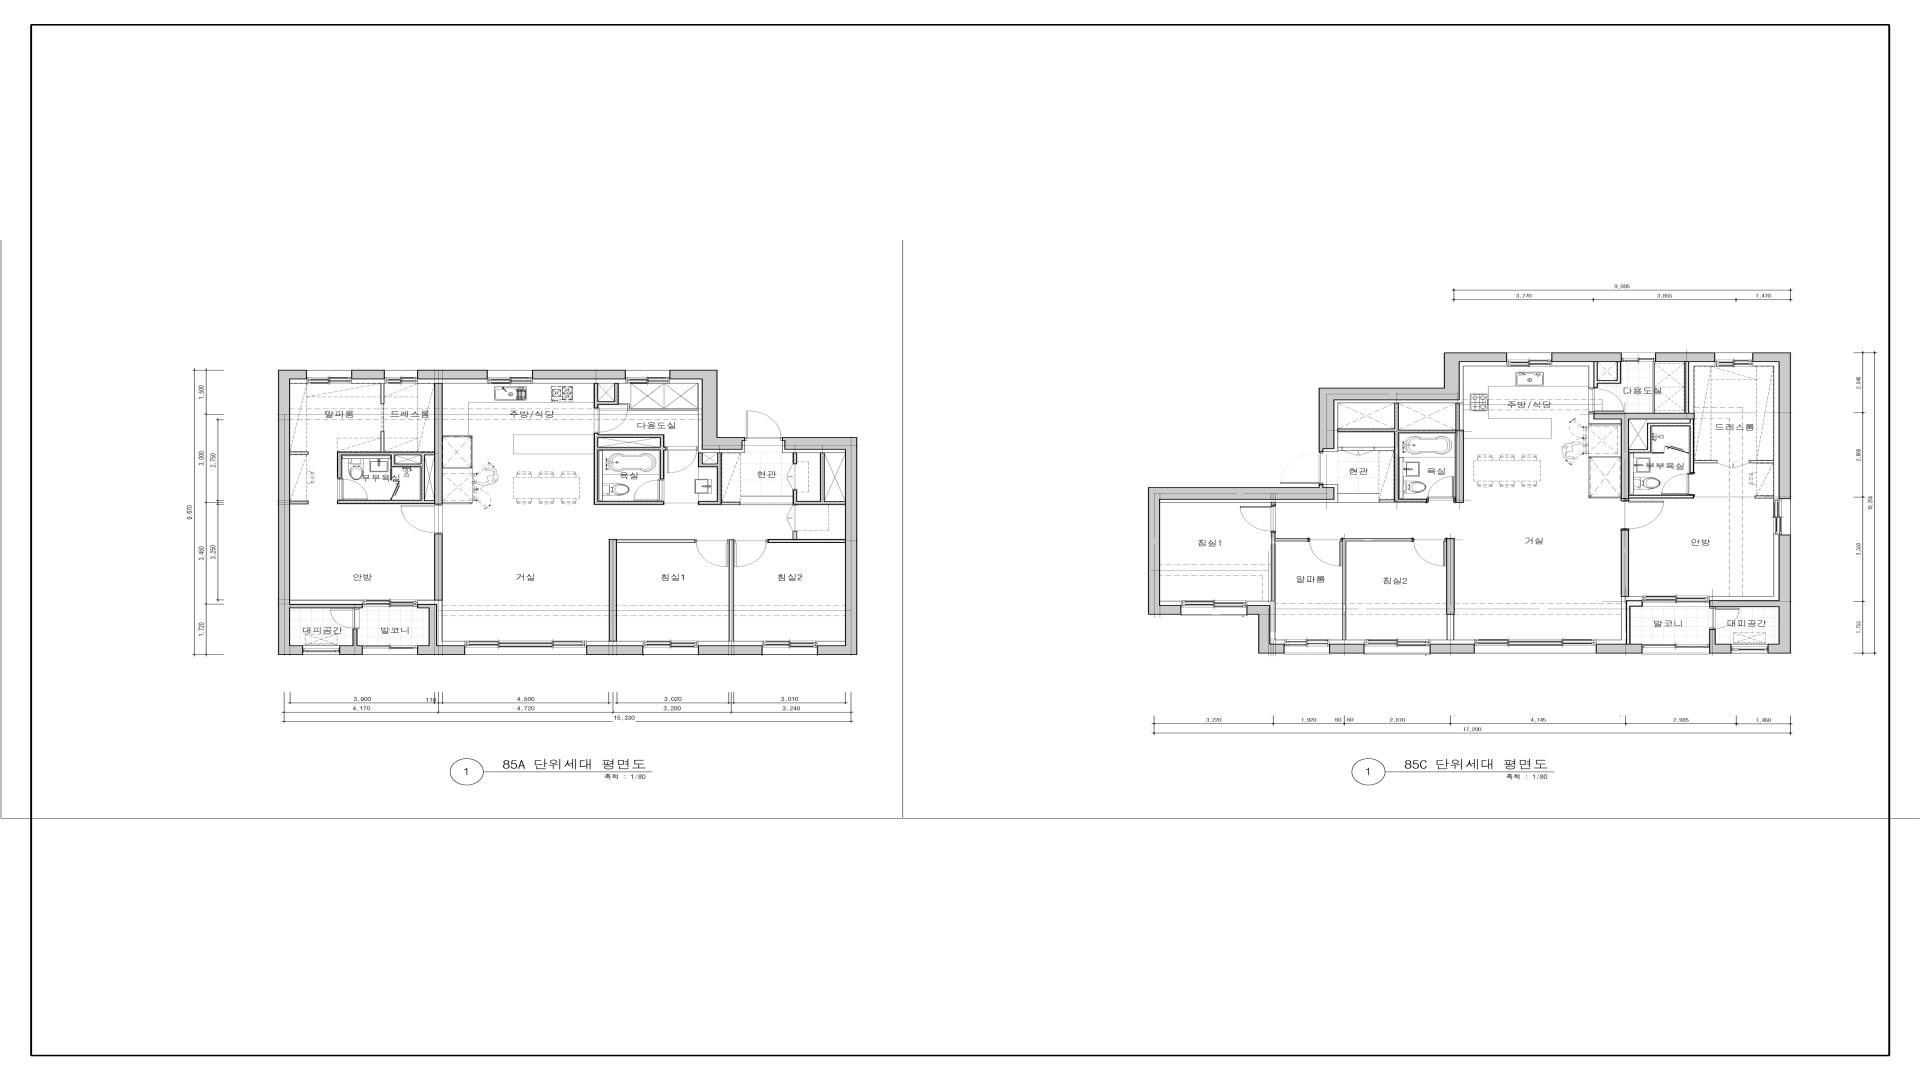door: (1621, 498, 1664, 530), (1280, 452, 1324, 484), (400, 504, 443, 534), (745, 411, 782, 440), (1240, 505, 1276, 533), (1308, 538, 1342, 567), (1412, 538, 1447, 566), (695, 539, 729, 567), (735, 539, 767, 567), (593, 407, 628, 434), (666, 447, 698, 473), (1662, 472, 1695, 495), (634, 479, 665, 501), (338, 479, 368, 501), (1710, 607, 1739, 629), (330, 608, 360, 629), (786, 505, 798, 531), (390, 468, 400, 500), (1341, 447, 1375, 455), (786, 464, 796, 489), (1717, 460, 1750, 468), (381, 404, 385, 433)
wall: (1147, 484, 1335, 615), (278, 369, 363, 655), (1319, 352, 1507, 452), (1589, 363, 1717, 498), (782, 438, 857, 655), (338, 382, 443, 505), (1337, 404, 1464, 502), (1709, 535, 1791, 654), (609, 539, 695, 642), (1342, 538, 1412, 640), (670, 371, 745, 450), (1753, 352, 1791, 500), (593, 434, 666, 505), (793, 452, 845, 505), (1271, 533, 1308, 601), (417, 604, 465, 655), (698, 452, 740, 505), (1246, 605, 1284, 654), (396, 455, 434, 502), (767, 531, 845, 543), (531, 371, 626, 380), (1447, 538, 1455, 641), (417, 369, 488, 380), (1552, 352, 1622, 363), (1593, 363, 1622, 388), (599, 435, 659, 447), (1626, 600, 1642, 645), (728, 539, 735, 641), (593, 382, 618, 409), (1655, 352, 1716, 363), (339, 629, 363, 655), (434, 534, 443, 600), (698, 646, 762, 655), (1709, 629, 1731, 654), (1621, 530, 1629, 597), (587, 646, 644, 655), (1596, 644, 1643, 654), (1429, 644, 1474, 654), (1329, 644, 1365, 654), (351, 369, 385, 380), (381, 384, 385, 404), (290, 501, 309, 505), (290, 451, 309, 455), (793, 452, 798, 464), (1750, 460, 1774, 463), (1755, 496, 1774, 498), (1337, 447, 1342, 451), (1271, 502, 1275, 505)
window: (1474, 640, 1597, 654), (465, 641, 587, 655), (1182, 600, 1247, 616), (1365, 640, 1431, 655), (644, 641, 698, 655), (762, 641, 818, 654), (1642, 645, 1710, 655), (1284, 640, 1329, 655), (1643, 596, 1709, 607), (1507, 352, 1552, 367), (488, 371, 533, 384), (307, 371, 352, 384), (1774, 500, 1791, 534), (626, 371, 670, 384), (1716, 352, 1753, 367), (363, 646, 417, 655), (385, 371, 418, 384), (363, 600, 418, 607), (1731, 645, 1768, 654), (303, 646, 339, 655), (1622, 352, 1655, 361)
